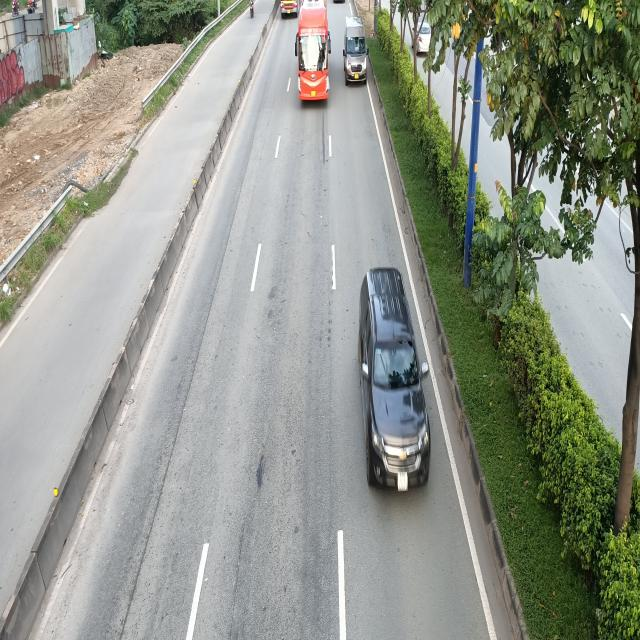car: (355, 264, 428, 489)
coach: (293, 0, 329, 104)
van: (343, 14, 369, 86)
